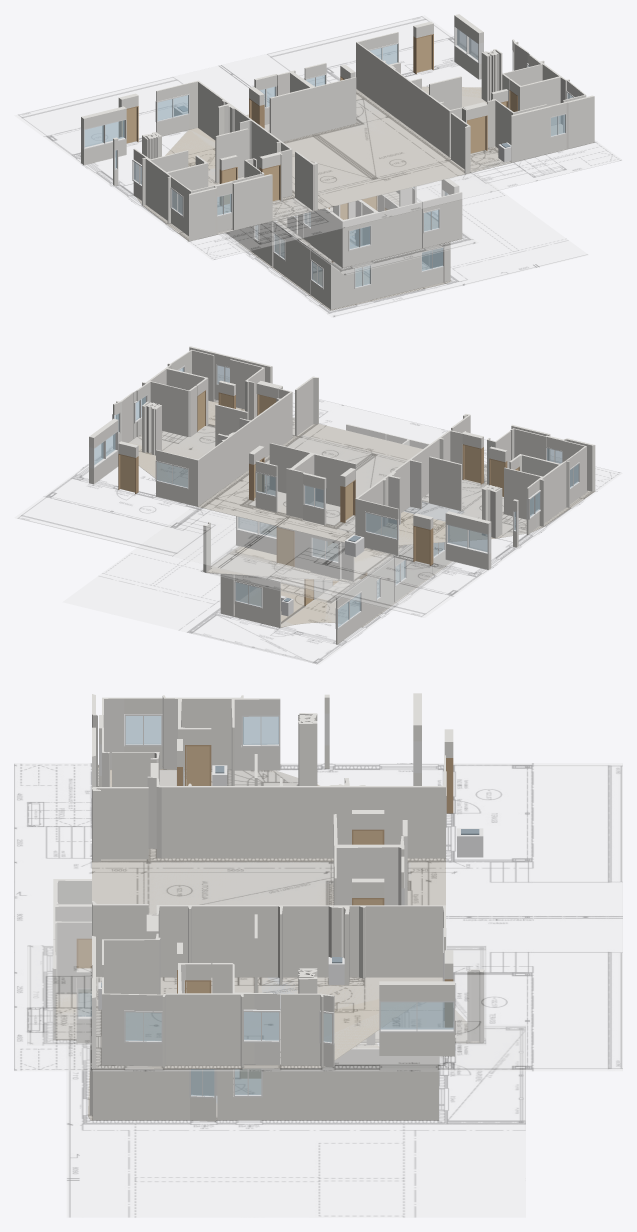
The picture shows the model from 3 angles, top to bottom: view 1: azimuth 30°, elevation 25°; view 2: azimuth 150°, elevation 25°; view 3: azimuth 270°, elevation 25°; orthographic projection. The views are drawn at different scales.
Parts seen in each view (by area): view 1: plan_floor-floor-3, floor-slab-floor-3, plan_floor-floor-1, wall-r020-floor-3, wall-r019-floor-3, wall-r021-floor-3, wall-r003-floor-2, wall-r015-floor-3, wall-r014-floor-3, wall-r003-floor-1, wall-r003-floor-3, wall-r002-floor-3 (+35 smaller); view 2: plan_floor-floor-3, plan_floor-floor-1, floor-slab-floor-3, wall-r020-floor-3, plan_floor-floor-2, wall-r021-floor-3, wall-r019-floor-3, wall-r015-floor-3, wall-r014-floor-3, room-027, wall-r013-floor-3, floor-slab-floor-1 (+48 smaller); view 3: plan_floor-floor-3, plan_floor-floor-1, wall-r021-floor-3, wall-r020-floor-3, floor-slab-floor-3, wall-r010-floor-1, room-027, wall-r014-floor-3, wall-r015-floor-3, plan_floor-floor-2, wall-r002-floor-1, wall-r009-floor-3 (+28 smaller).
Part boxes in pixels (bbox=[...]): plan_floor-floor-3: bbox=[14, 15, 621, 260]; floor-slab-floor-3: bbox=[137, 86, 562, 241]; plan_floor-floor-1: bbox=[219, 172, 587, 317]; wall-r020-floor-3: bbox=[356, 40, 466, 157]; wall-r019-floor-3: bbox=[269, 70, 356, 141]; wall-r021-floor-3: bbox=[189, 80, 292, 201]; wall-r003-floor-2: bbox=[355, 200, 422, 260]; wall-r015-floor-3: bbox=[137, 150, 208, 223]; wall-r014-floor-3: bbox=[502, 54, 569, 125]; wall-r003-floor-1: bbox=[371, 249, 422, 299]; wall-r003-floor-3: bbox=[232, 174, 272, 230]; wall-r002-floor-3: bbox=[511, 106, 550, 162]; plan_floor-floor-3: bbox=[14, 393, 622, 617]; plan_floor-floor-1: bbox=[63, 506, 457, 664]; floor-slab-floor-3: bbox=[130, 401, 594, 544]; wall-r020-floor-3: bbox=[189, 386, 292, 506]; plan_floor-floor-2: bbox=[199, 544, 411, 603]; wall-r021-floor-3: bbox=[355, 430, 466, 547]; wall-r019-floor-3: bbox=[269, 443, 355, 520]; wall-r015-floor-3: bbox=[504, 454, 569, 527]; wall-r014-floor-3: bbox=[136, 363, 208, 436]; room-027: bbox=[234, 435, 406, 497]; wall-r013-floor-3: bbox=[429, 456, 461, 510]; floor-slab-floor-1: bbox=[234, 548, 451, 627]; plan_floor-floor-3: bbox=[14, 763, 622, 1070]; plan_floor-floor-1: bbox=[67, 1025, 525, 1217]; wall-r021-floor-3: bbox=[147, 776, 445, 858]; wall-r020-floor-3: bbox=[146, 905, 445, 985]; floor-slab-floor-3: bbox=[92, 765, 445, 1069]; wall-r010-floor-1: bbox=[263, 1048, 438, 1120]; room-027: bbox=[139, 861, 333, 914]; wall-r014-floor-3: bbox=[162, 963, 272, 1067]; wall-r015-floor-3: bbox=[162, 695, 272, 785]; plan_floor-floor-2: bbox=[27, 945, 485, 1045]; wall-r002-floor-1: bbox=[90, 1044, 189, 1120]; wall-r009-floor-3: bbox=[92, 787, 148, 861].
Size of the model in its own units: 24.96 by 8.7 by 20.84.
Materials: 16 (3 with a texture image).
